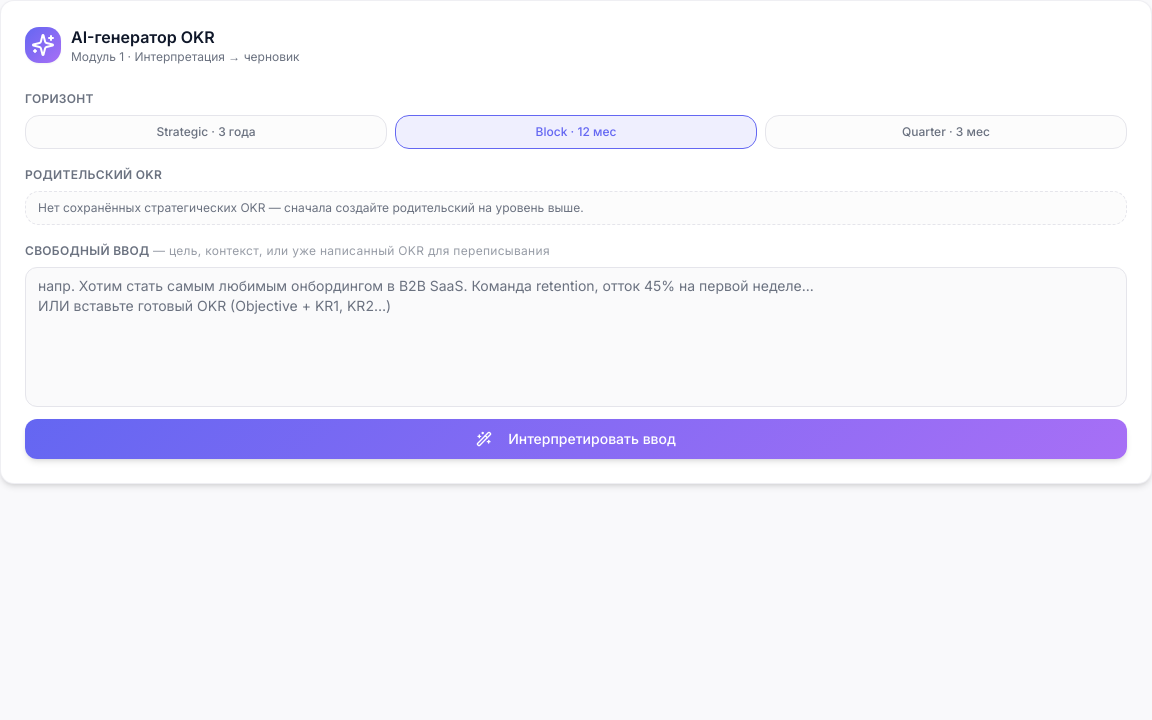
Test: OkrGenerator (Module 1) › без parentLink индикатор связи не показывается
The image size is (1152, 720).
Type "raw" into the text box with placeholder "Хотим стать самым любимым онбордингом" at (576, 337), box x1=25 y1=267 x2=1127 y2=407
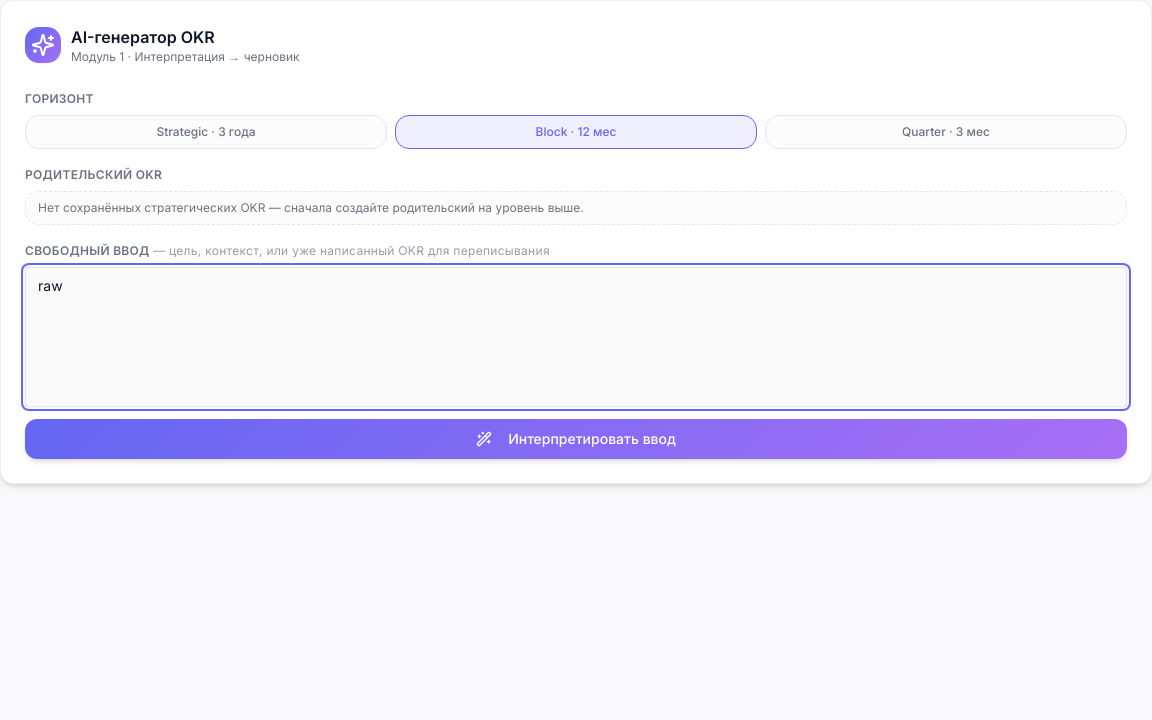
Click the button "Интерпретировать ввод" at (576, 439), box x1=25 y1=419 x2=1127 y2=459
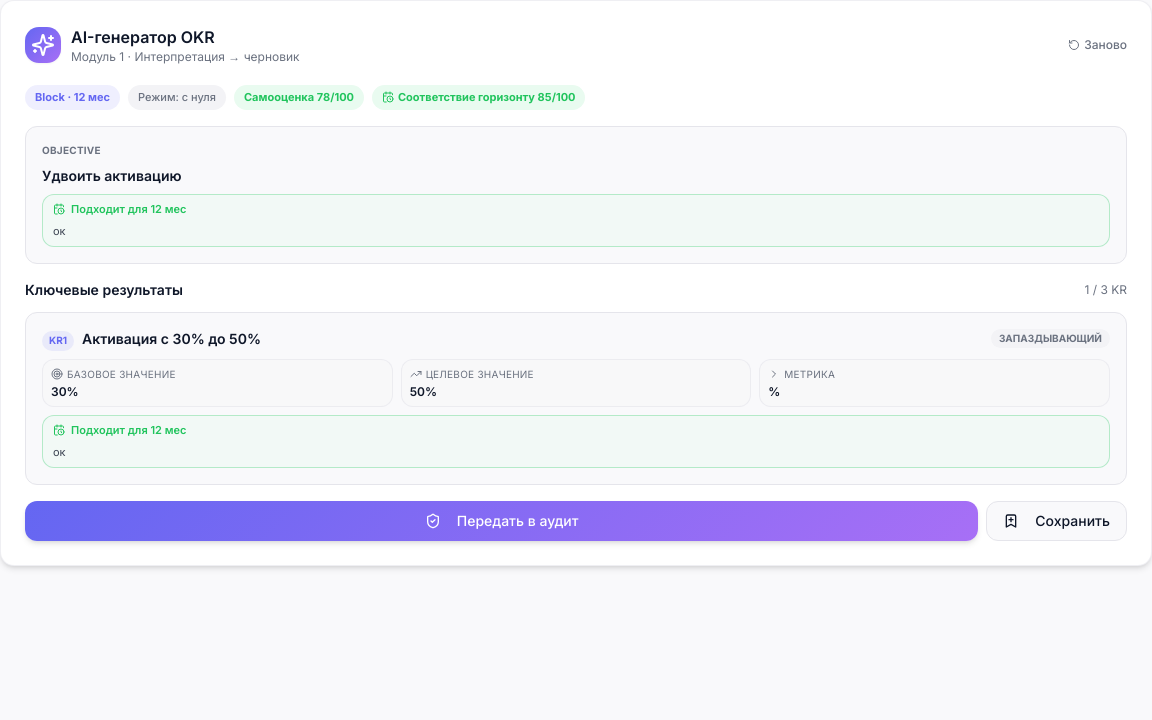
Result: the button "Сохранить" is shown at x1=986 y1=500 x2=1127 y2=540
